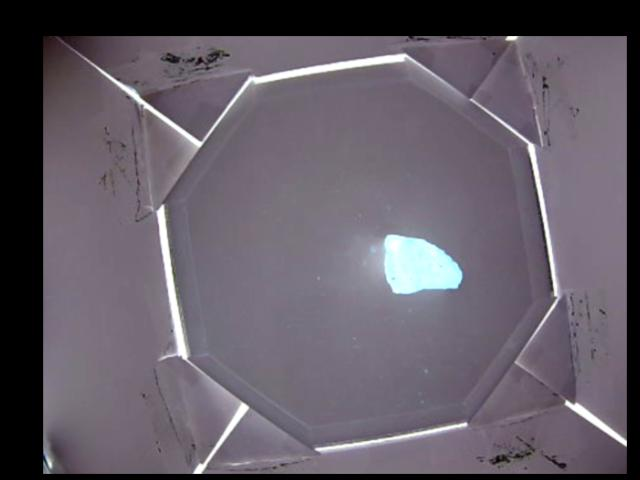Brisk: (383, 234, 465, 294)
